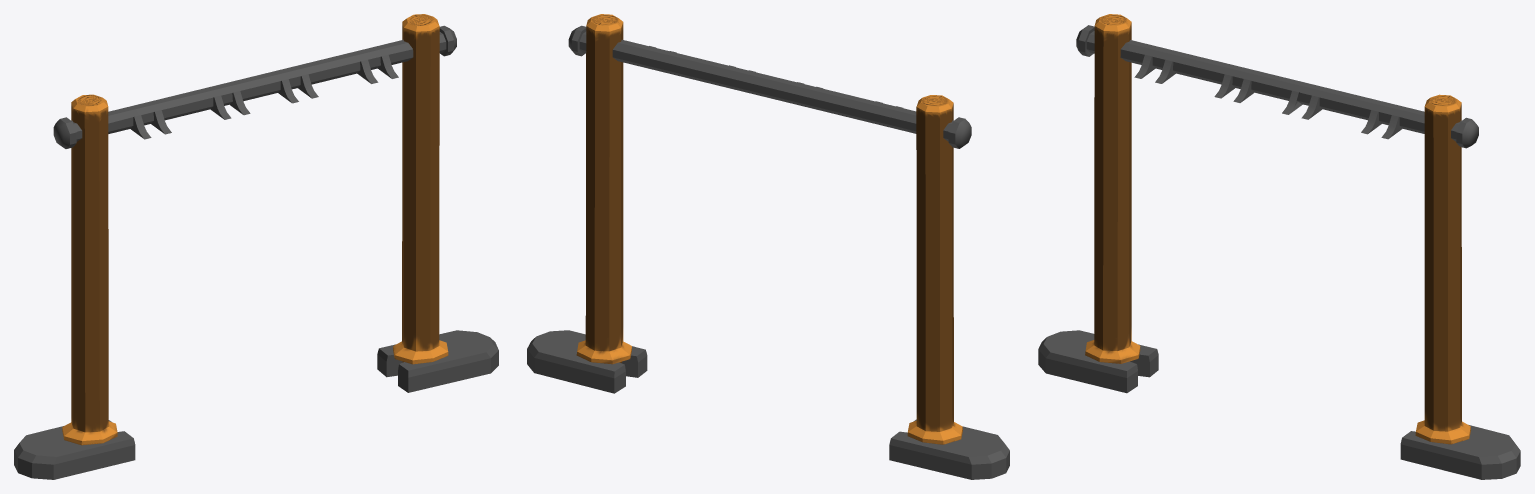
File: Stand-aloneToolRack.fbx
3 views of the same model, side by side, from view 1: azimuth 30°, elevation 25°; view 2: azimuth 150°, elevation 25°; view 3: azimuth 330°, elevation 25° (orthographic).
Parts seen in each view (by area): view 1: Cube.005, Cylinder.001; view 2: Cube.005, Cylinder.001; view 3: Cube.005, Cylinder.001.
Boxes of the visible parts, x1,y1,x2,y2 form: Cube.005: (14, 14, 498, 479); Cylinder.001: (53, 25, 456, 148); Cube.005: (527, 14, 1009, 479); Cylinder.001: (568, 25, 971, 148); Cube.005: (1038, 14, 1520, 479); Cylinder.001: (1076, 25, 1478, 148).
Bounding box in the file's own units: 202 × 144 × 24.51.
Materials: 2 (1 with a texture image).
